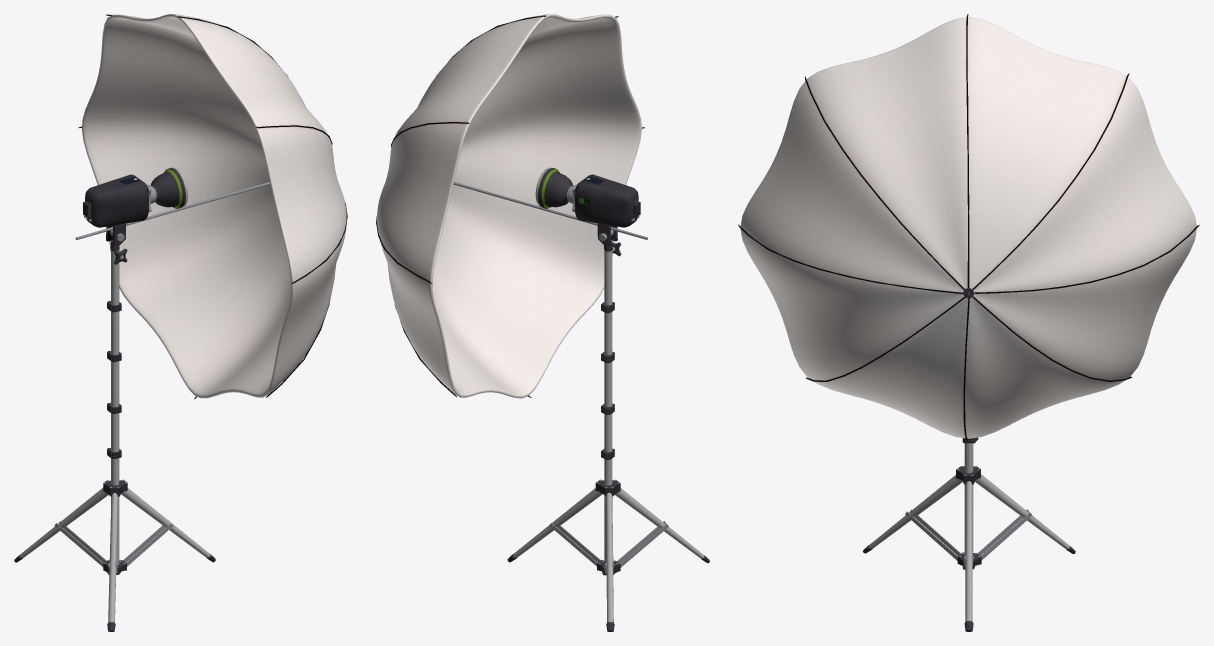
File: studio_umbrella_light.glb
3 renders of one model, left to right at view 1: azimuth 30°, elevation 25°; view 2: azimuth 150°, elevation 25°; view 3: azimuth 270°, elevation 25°, orthographic. The views are drawn at different scales.
Parts seen in each view (by area): view 1: Cylinder.003; view 2: Cylinder.003; view 3: Cylinder.003.
Boxes of the visible parts, left/top/right/bottom form: Cylinder.003: left=14, top=14, right=347, bottom=631; Cylinder.003: left=376, top=14, right=709, bottom=631; Cylinder.003: left=738, top=14, right=1199, bottom=631.
Size of the model in its own units: 789 by 1543 by 1076.
1 material, 1 textured.
